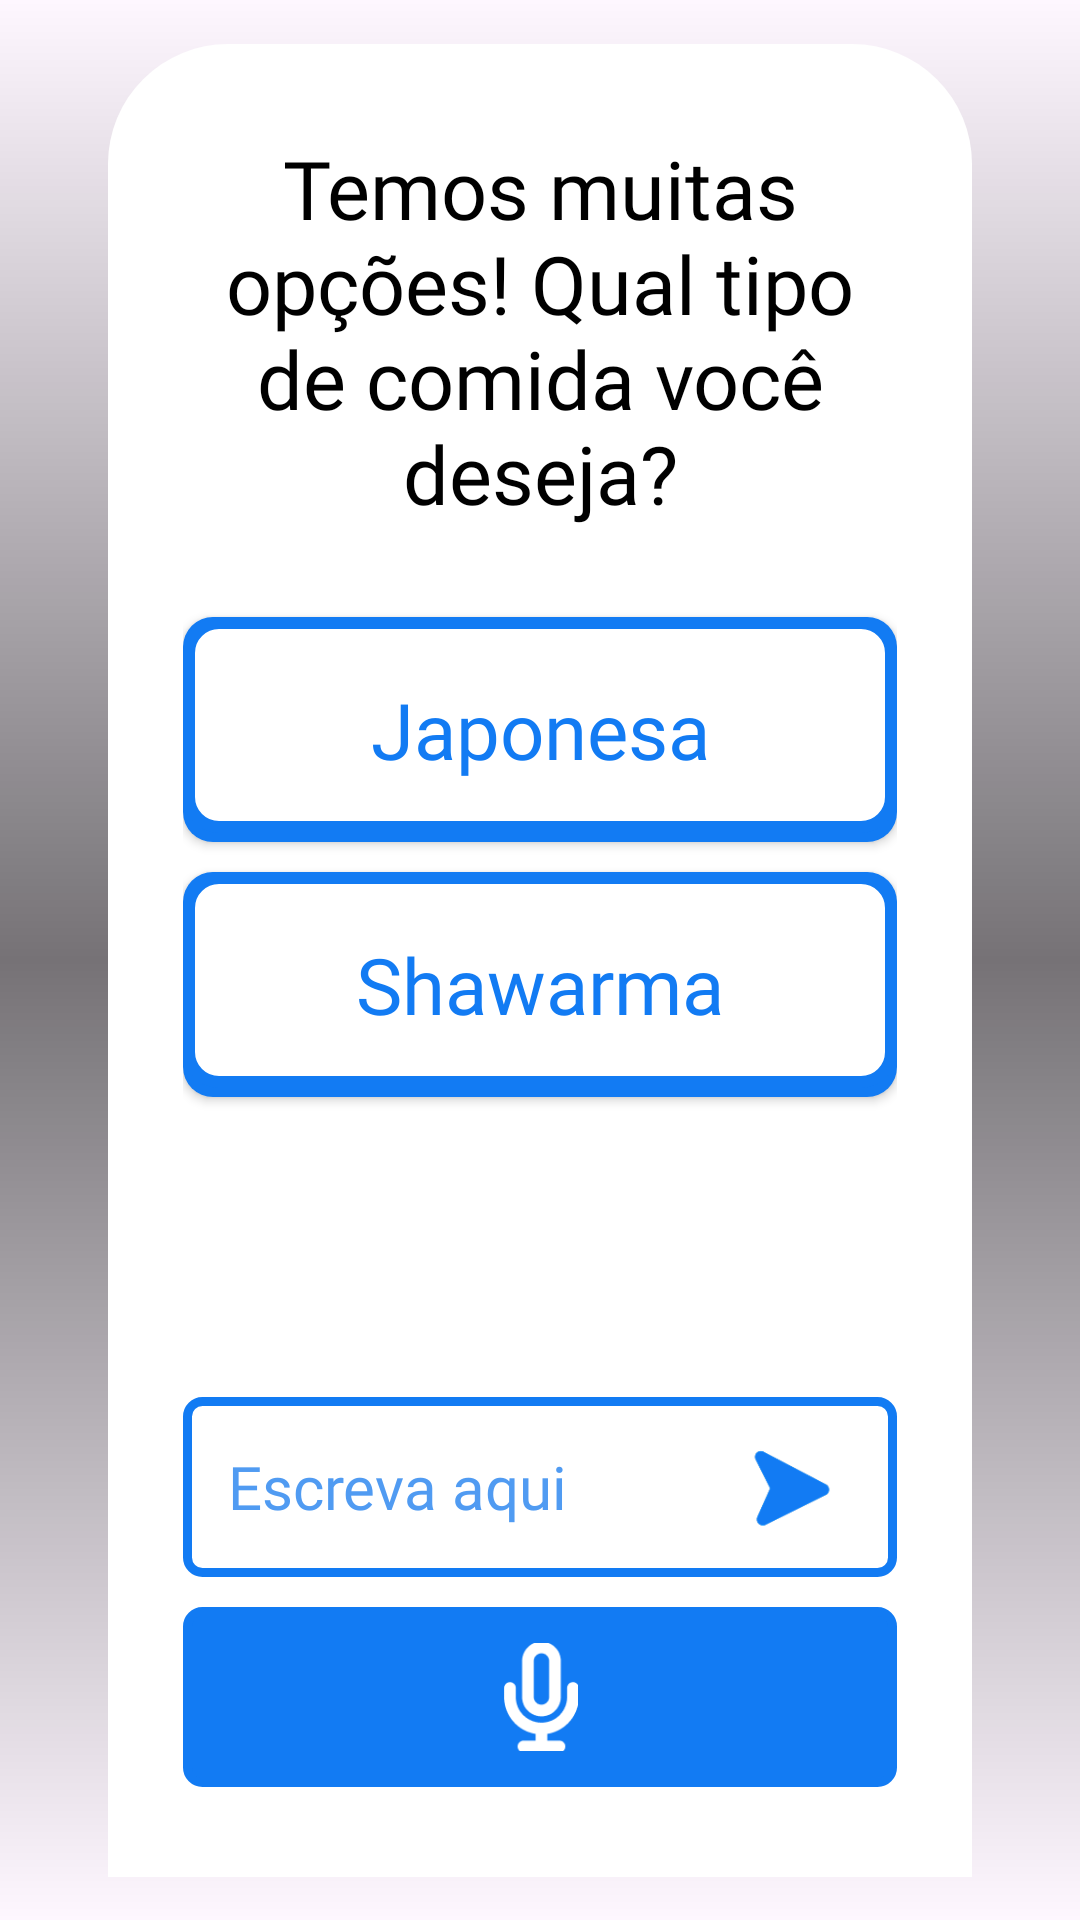

Where icons sit on this 1080×1920 app screen, as (x1, y1, x2, y2):
Enviar pergunta: (754, 1451, 830, 1526)
